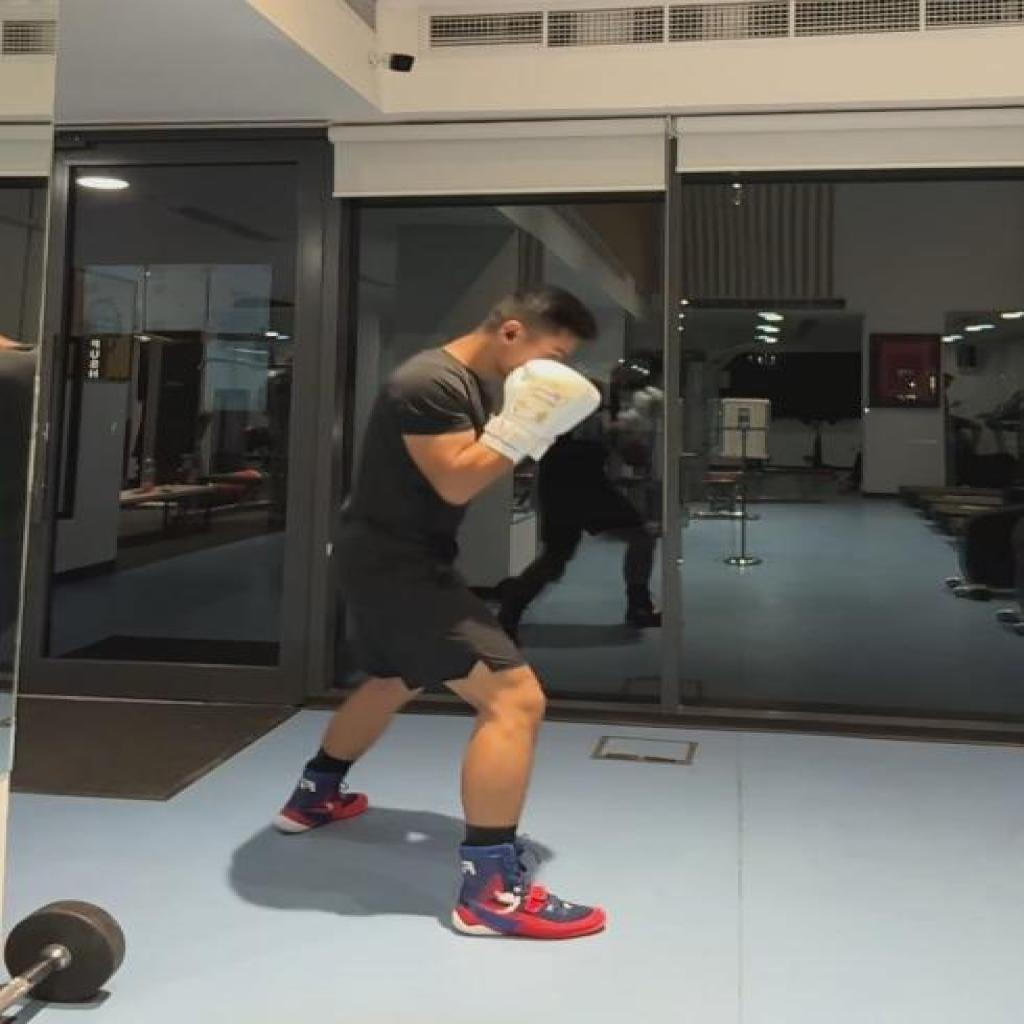no punch: (274, 283, 612, 944)
